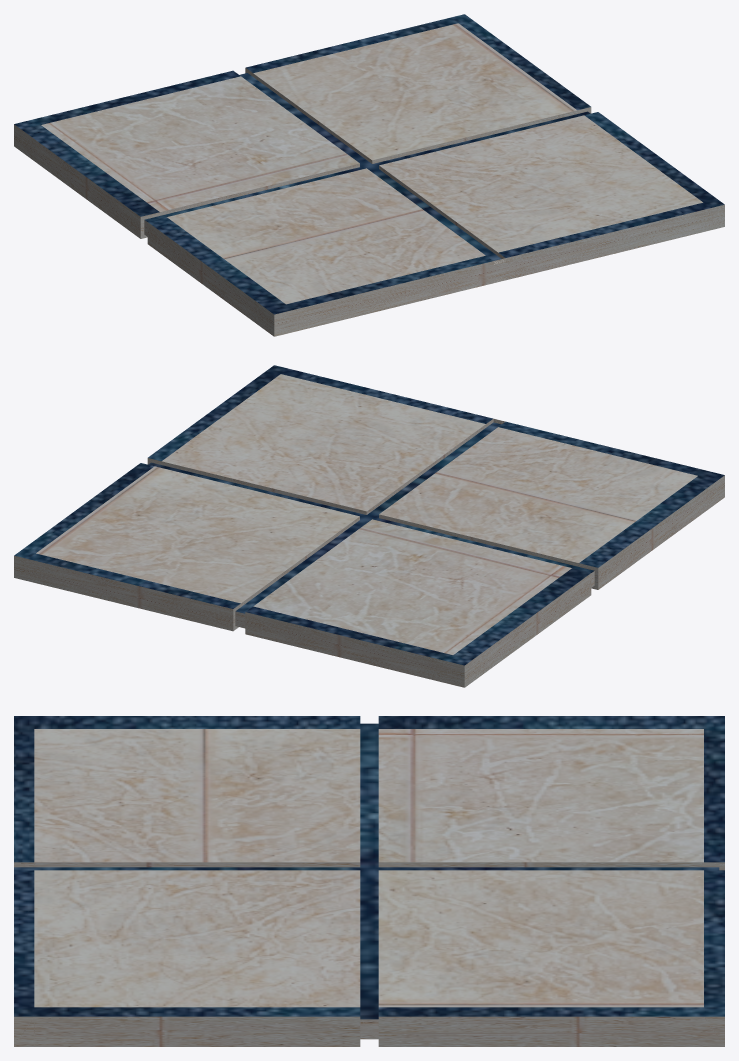
The model's file is Floor.fbx.
The picture shows the model from 3 angles, top to bottom: view 1: azimuth 30°, elevation 25°; view 2: azimuth 150°, elevation 25°; view 3: azimuth 270°, elevation 25°; orthographic projection. The views are drawn at different scales.
Visible parts, largest first — view 1: pCube59; view 2: pCube59; view 3: pCube59.
Boxes of the visible parts, box(x1,y1,x2,y2) form: pCube59: box(14, 14, 724, 336); pCube59: box(14, 365, 724, 687); pCube59: box(14, 716, 724, 1046).
Size of the model in its own units: 13.85 by 0.6525 by 13.85.
Materials: 1 (1 with a texture image).
